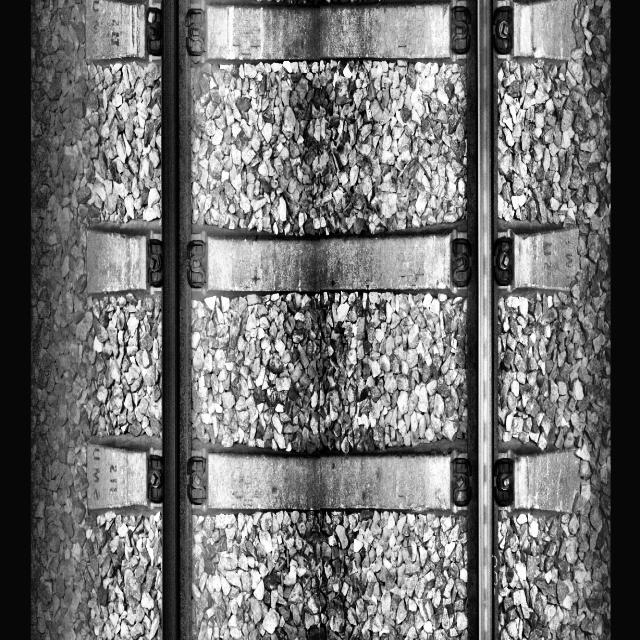Clips: (449, 454, 474, 508), (449, 5, 473, 52), (186, 453, 209, 502), (187, 236, 208, 288), (142, 8, 164, 57), (494, 236, 514, 287), (492, 5, 514, 50), (186, 8, 206, 57), (452, 238, 472, 287), (494, 456, 514, 504), (146, 452, 164, 503), (147, 236, 163, 284)
Sleepers: (84, 430, 590, 528), (82, 217, 584, 300), (82, 2, 583, 68)
